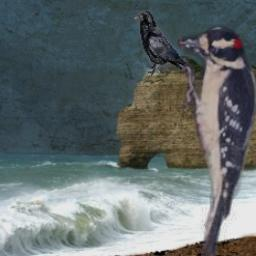Crow: (135, 11, 194, 77)
Woodpecker: (178, 22, 256, 256)
